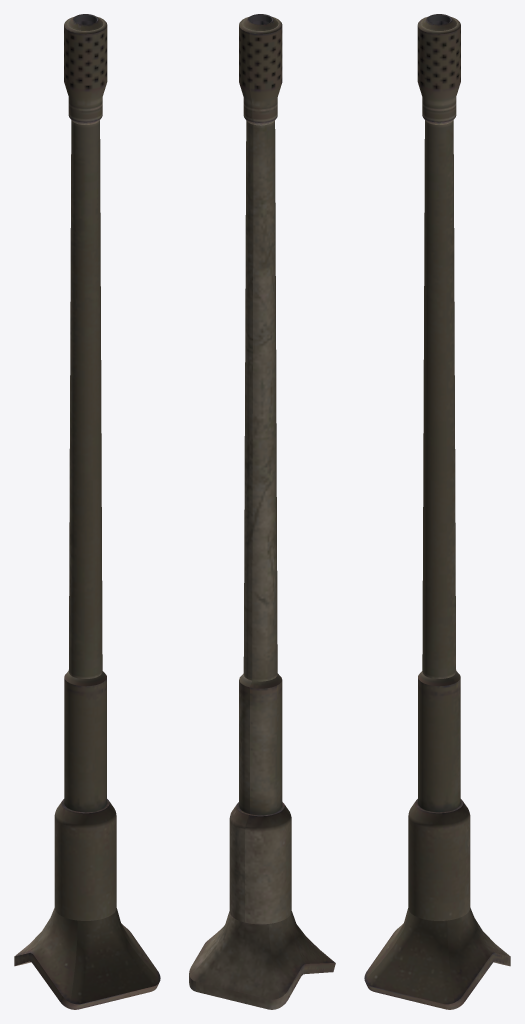
File: Gun_04.glb
3 renders of one model, left to right at view 1: azimuth 30°, elevation 25°; view 2: azimuth 150°, elevation 25°; view 3: azimuth 330°, elevation 25°, orthographic.
Visible parts, largest first — view 1: set_0_group_0; view 2: set_0_group_0; view 3: set_0_group_0.
Part boxes in pixels (x1=…): set_0_group_0: x1=14, y1=14, x2=160, y2=1009; set_0_group_0: x1=189, y1=14, x2=335, y2=1009; set_0_group_0: x1=364, y1=14, x2=510, y2=1009.
Size of the model in its own units: 0.6216 by 5.9 by 0.6671.
Materials: 1 (1 with a texture image).
